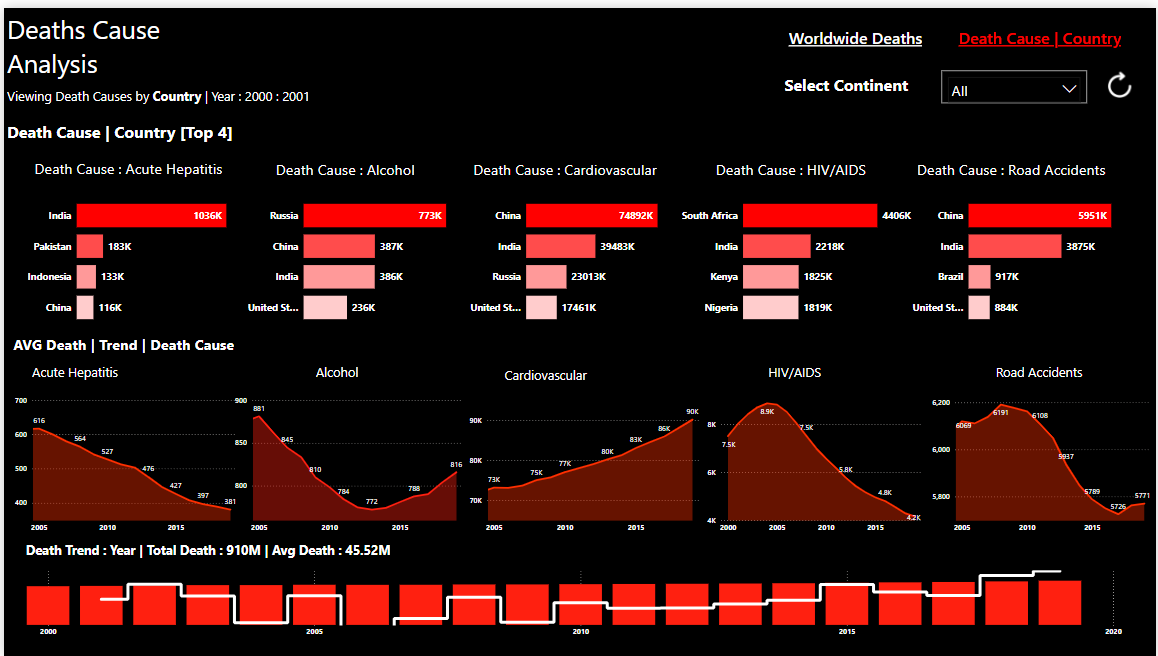

Layout of this report page (visuals, bound fields, positions):
{"tool":"powerbi","page":{"name":"Death Cause | Country","canvas":[1920,1080],"ordinal":1},"visuals":[{"type":"textbox","box":[0,0,404.9,127],"z":0},{"type":"textbox","box":[0,127,542.9,40.5],"z":1000},{"type":"actionButton","box":[1260.5,25,317.2,48],"z":2000},{"type":"actionButton","box":[1563.1,25,327.7,48],"z":3000},{"type":"actionButton","box":[1821.9,93.9,83.5,73],"z":4000},{"type":"slicer","fields":{"Values":["country_data.CONTINENT"]},"box":[1563.1,104.3,242.1,54.3],"z":5000},{"type":"textbox","box":[1296,104.3,246.3,54.3],"z":6000},{"type":"textbox","box":[0,183.7,396.5,52.2],"z":7000},{"type":"barChart","fields":{"Category":["DEATH_by_cause_Country.COUNTRY"],"Y":["Death_cause_calculation.Acute_hepatitis"]},"box":[33.4,297.6,395.2,242.9],"z":8000},{"type":"barChart","fields":{"Category":["DEATH_by_cause_Country.COUNTRY"],"Y":["Death_cause_calculation.Alcohol"]},"box":[387.5,297.6,395.2,242.9],"z":9000},{"type":"barChart","fields":{"Category":["DEATH_by_cause_Country.COUNTRY"],"Y":["Death_cause_calculation.cardiovascular"]},"box":[760,297.6,389,242.9],"z":10000},{"type":"barChart","fields":{"Category":["DEATH_by_cause_Country.COUNTRY"],"Y":["Death_cause_calculation.HIV_AIDS"]},"box":[1122.3,297.6,397.3,242.9],"z":11000},{"type":"barChart","fields":{"Category":["DEATH_by_cause_Country.COUNTRY"],"Y":["Death_cause_calculation.Road_death"]},"box":[1492.8,297.6,403.4,242.9],"z":12000},{"type":"textbox","box":[10.4,540.5,394.4,52.2],"z":13000},{"type":"textbox","box":[448.1,247.4,269.6,53.5],"z":14000},{"type":"textbox","box":[776.4,247.4,345.8,53.5],"z":15000},{"type":"textbox","box":[1180.8,247.4,277.9,53.5],"z":16000},{"type":"textbox","box":[1517.4,247.4,337.6,53.5],"z":17000},{"type":"lineChart","fields":{"Y":["Averages_of_deathCauses.Acute_hepatitis_avg"],"Category":["Acute_Hepatitis_Deaths_Table.YEARS"]},"box":[12,640,384,244],"z":18000},{"type":"lineChart","fields":{"Y":["Averages_of_deathCauses.Alcohol_avg"],"Category":["ALCOHOL_Deaths_Table.YEARS"]},"box":[380,640,394,244],"z":19000},{"type":"lineChart","fields":{"Category":["CARDIOVASCULAR_Deaths_Table.YEARS"],"Y":["Averages_of_deathCauses.CARDIOVASCULAR_AVG"]},"box":[770,640,396,244],"z":20000},{"type":"lineChart","fields":{"Category":["HIV/AIDS_Table.YEARS"],"Y":["Averages_of_deathCauses.HIV/AIDS_avg"]},"box":[1166,640,370,244],"z":21000},{"type":"lineChart","fields":{"Category":["ROAD_Deaths_Table.YEARS"],"Y":["Averages_of_deathCauses.ROAD_AVG"]},"box":[1542,644,378,240],"z":22000},{"type":"textbox","box":[41.7,588.5,167,52.2],"z":23000},{"type":"textbox","box":[515.5,588.5,167,52.2],"z":24000},{"type":"textbox","box":[830,592,186,52],"z":25000},{"type":"textbox","box":[1268,588,168,52],"z":26000},{"type":"textbox","box":[1648.7,588.5,167,52.2],"z":27000},{"type":"textbox","box":[46,246.6,349.7,53.4],"z":28000},{"type":"textbox","box":[32,884,650,46],"z":29000},{"type":"lineStackedColumnComboChart","fields":{"Category":["YEARS_WISE_TOTAL_DEATH.YEARS.Variation.Date Hierarchy.Year"],"Y":["Sum(YEARS_WISE_TOTAL_DEATH.total_deathsByYear)"],"Y2":["YEARS_WISE_TOTAL_DEATH.yoy%_change"]},"box":[32,930,1860,132],"z":30000}]}

Visuals, with their boxes in screenshot pixels (x1, y1, x2, y2), scaled from the page's 1920x1080 canvas onto the 1158x656 screenshot:
textbox: 0 0 244 77
textbox: 0 77 327 102
actionButton: 760 15 952 44
actionButton: 943 15 1140 44
actionButton: 1099 57 1149 101
slicer - country_data.CONTINENT: 943 63 1089 96
textbox: 782 63 930 96
textbox: 0 112 239 143
barChart - DEATH_by_cause_Country.COUNTRY x Death_cause_calculation.Acute_hepatitis: 20 181 258 328
barChart - DEATH_by_cause_Country.COUNTRY x Death_cause_calculation.Alcohol: 234 181 472 328
barChart - DEATH_by_cause_Country.COUNTRY x Death_cause_calculation.cardiovascular: 458 181 693 328
barChart - DEATH_by_cause_Country.COUNTRY x Death_cause_calculation.HIV_AIDS: 677 181 917 328
barChart - DEATH_by_cause_Country.COUNTRY x Death_cause_calculation.Road_death: 900 181 1144 328
textbox: 6 328 244 360
textbox: 270 150 433 183
textbox: 468 150 677 183
textbox: 712 150 880 183
textbox: 915 150 1119 183
lineChart - Averages_of_deathCauses.Acute_hepatitis_avg x Acute_Hepatitis_Deaths_Table.YEARS: 7 389 239 537
lineChart - Averages_of_deathCauses.Alcohol_avg x ALCOHOL_Deaths_Table.YEARS: 229 389 467 537
lineChart - CARDIOVASCULAR_Deaths_Table.YEARS x Averages_of_deathCauses.CARDIOVASCULAR_AVG: 464 389 703 537
lineChart - HIV/AIDS_Table.YEARS x Averages_of_deathCauses.HIV/AIDS_avg: 703 389 926 537
lineChart - ROAD_Deaths_Table.YEARS x Averages_of_deathCauses.ROAD_AVG: 930 391 1157 537
textbox: 25 357 126 389
textbox: 311 357 412 389
textbox: 501 360 613 391
textbox: 765 357 866 389
textbox: 994 357 1095 389
textbox: 28 150 239 182
textbox: 19 537 411 565
lineStackedColumnComboChart - YEARS_WISE_TOTAL_DEATH.YEARS.Variation.Date Hierarchy.Year x Sum(YEARS_WISE_TOTAL_DEATH.total_deathsByYear): 19 565 1141 645
